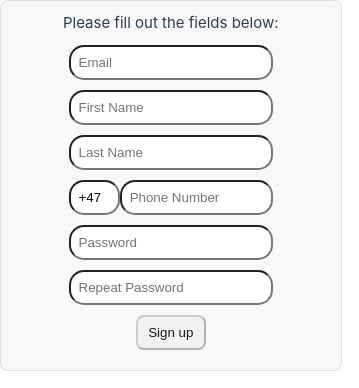
Test: SignUpForm › binds form inputs correctly
This screenshot has width=359, height=388.
Type "test@example.com" into the field with id "email" at x=171, y=62, box 68,45 -> 273,80
Type "John" into the field with id "firstName" at x=171, y=108, box 68,90 -> 273,125
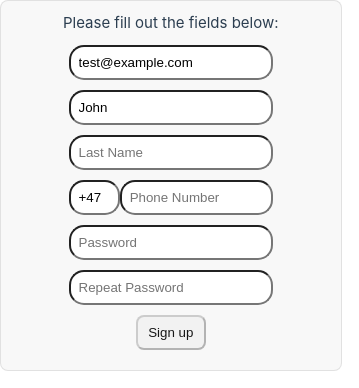
Type "Doe" into the field with id "lastName" at x=171, y=152, box 68,135 -> 273,170
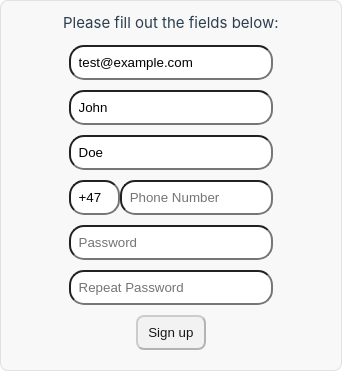
Type "+1" into the field with id "landCode" at x=94, y=198, box 68,180 -> 120,215
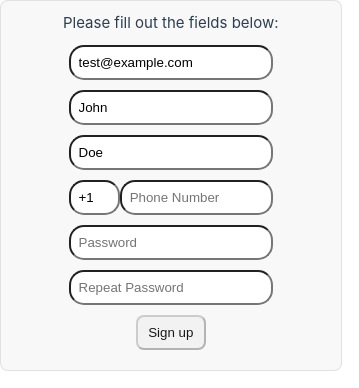
Type "1234567890" into the field with placeholder "Phone Number" at x=196, y=198, box 120,180 -> 273,215
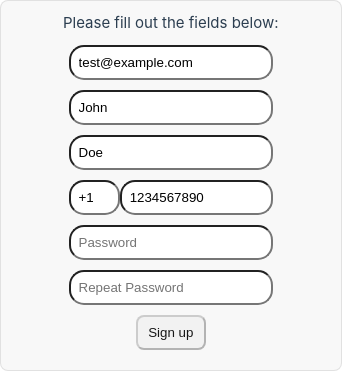
Type "password123" into the password field with placeholder "Password" at x=171, y=242, box 68,225 -> 273,260
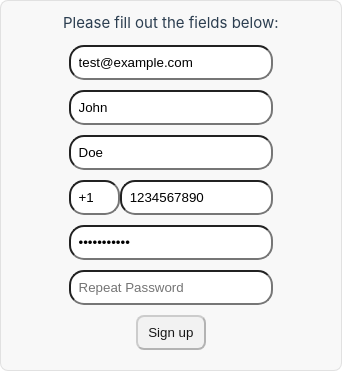
Type "password123" into the password field with id "repeatPassword" at x=171, y=288, box 68,270 -> 273,305
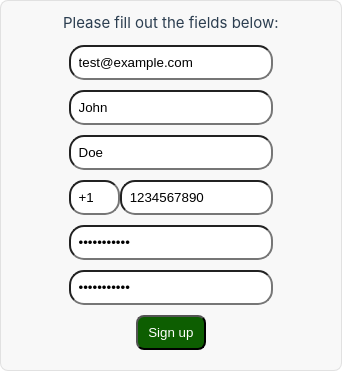
Now the button with id "signup-button" is enabled, box 136,315 -> 206,350
